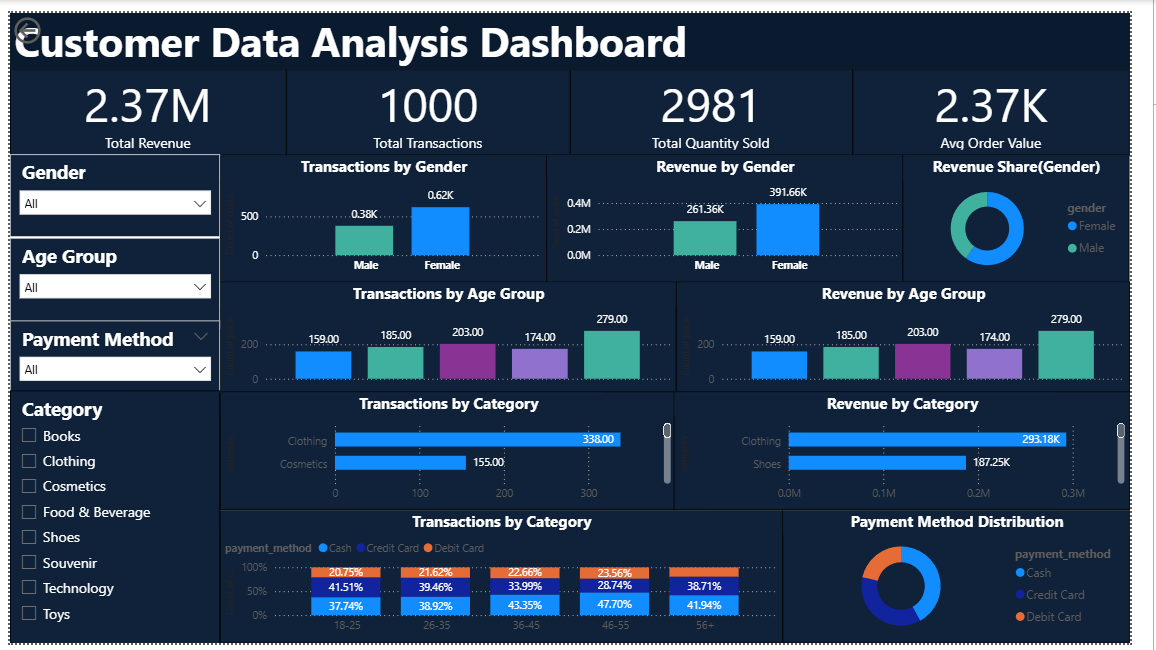

This screenshot's page, from the dashboard's own definition file:
{"tool":"powerbi","page":{"name":"DASHBOARD","canvas":[1280,720],"ordinal":0},"visuals":[{"type":"textbox","title":"Customer Data Analysis Dashboard","box":[0,0,1280,64.1],"z":0},{"type":"card","title":"Total Transactions","fields":{"Values":["select","customer data analysis dataset.Total Transactions"]},"box":[315.7,64.3,324.3,98.6],"z":1000},{"type":"card","title":"Total Transactions","fields":{"Values":["customer data analysis dataset.Total Revenue"]},"box":[0,64.3,315.7,98.6],"z":2000},{"type":"card","title":"Total Transactions","fields":{"Values":["customer data analysis dataset.Avg Order Value"]},"box":[962.9,64.3,317.1,98.6],"z":3000},{"type":"card","title":"Total Transactions","fields":{"Values":["customer data analysis dataset.Total Quantity Sold"]},"box":[640,64.3,322.9,98.6],"z":4000},{"type":"clusteredColumnChart","title":"Transactions by Gender","fields":{"Category":["customer data analysis dataset.gender"],"Y":["CountNonNull(customer data analysis dataset.customer_id)"]},"box":[239.5,162.5,373.5,145.4],"z":5000},{"type":"clusteredColumnChart","title":"Revenue by Gender","fields":{"Category":["customer data analysis dataset.gender"],"Y":["Sum(customer data analysis dataset.price)"]},"box":[612.9,162.5,407.7,145.4],"z":6000},{"type":"donutChart","title":"Revenue Share(Gender)","fields":{"Category":["customer data analysis dataset.gender"],"Y":["Sum(customer data analysis dataset.price)"]},"box":[1020.6,162.5,259.4,145.4],"z":7000},{"type":"clusteredColumnChart","title":"Transactions by Age Group","fields":{"Category":["customer data analysis dataset.Age Group"],"Y":["CountNonNull(customer data analysis dataset.price)"]},"box":[240.1,307.4,521.4,126.2],"z":8000},{"type":"clusteredColumnChart","title":"Revenue by Age Group","fields":{"Category":["customer data analysis dataset.Age Group"],"Y":["CountNonNull(customer data analysis dataset.price)"]},"box":[761.6,307.4,518.7,126.2],"z":9000},{"type":"clusteredBarChart","title":" Transactions by Category","fields":{"Y":["CountNonNull(customer data analysis dataset.customer_id)"],"Category":["customer data analysis dataset.category"]},"box":[239.5,433.3,521.7,135.4],"z":10000},{"type":"clusteredBarChart","title":"Revenue by Category","fields":{"Category":["customer data analysis dataset.category"],"Y":["Sum(customer data analysis dataset.price)"]},"box":[758.3,433.3,521.7,135.4],"z":11000},{"type":"donutChart","title":"Payment Method Distribution","fields":{"Category":["customer data analysis dataset.payment_method"],"Y":["CountNonNull(customer data analysis dataset.payment_method)"]},"box":[882.3,568.7,397.7,151.1],"z":12000},{"type":"hundredPercentStackedColumnChart","title":" Transactions by Category","fields":{"Category":["customer data analysis dataset.Age Group"],"Y":["CountNonNull(customer data analysis dataset.customer_id)"],"Series":["customer data analysis dataset.payment_method"]},"box":[239.5,568.7,642.9,151.1],"z":13000},{"type":"actionButton","box":[0,0,100,40],"z":14000},{"type":"slicer","title":"Transactions by Gender","fields":{"Values":["customer data analysis dataset.gender"]},"box":[0,161.9,240.1,94.7],"z":15000},{"type":"slicer","title":"Transactions by Gender","fields":{"Values":["customer data analysis dataset.Age Group"]},"box":[0,256.6,240.1,102.9],"z":16000},{"type":"slicer","title":"Transactions by Gender","fields":{"Values":["customer data analysis dataset.payment_method"]},"box":[0,351.3,240.1,82.3],"z":17000},{"type":"slicer","title":"Transactions by Age Group","fields":{"Values":["customer data analysis dataset.category"]},"box":[0,430.9,240.1,289.5],"z":18000}]}

Visuals, with their boxes on the page's 1280x720 design canvas (x1, y1, x2, y2). These are canvas units, not pixel positions in the 1156x650 screenshot, which may show the page scaled, cropped or inside an application window:
"Customer Data Analysis Dashboard" textbox: <box>0,0,1280,64</box>
"Total Transactions" card: <box>316,64,640,163</box>
"Total Transactions" card: <box>0,64,316,163</box>
"Total Transactions" card: <box>963,64,1280,163</box>
"Total Transactions" card: <box>640,64,963,163</box>
"Transactions by Gender" clusteredColumnChart: <box>240,162,613,308</box>
"Revenue by Gender" clusteredColumnChart: <box>613,162,1021,308</box>
"Revenue Share(Gender)" donutChart: <box>1021,162,1280,308</box>
"Transactions by Age Group" clusteredColumnChart: <box>240,307,762,434</box>
"Revenue by Age Group" clusteredColumnChart: <box>762,307,1280,434</box>
" Transactions by Category" clusteredBarChart: <box>240,433,761,569</box>
"Revenue by Category" clusteredBarChart: <box>758,433,1280,569</box>
"Payment Method Distribution" donutChart: <box>882,569,1280,720</box>
" Transactions by Category" hundredPercentStackedColumnChart: <box>240,569,882,720</box>
actionButton: <box>0,0,100,40</box>
"Transactions by Gender" slicer: <box>0,162,240,257</box>
"Transactions by Gender" slicer: <box>0,257,240,360</box>
"Transactions by Gender" slicer: <box>0,351,240,434</box>
"Transactions by Age Group" slicer: <box>0,431,240,720</box>
